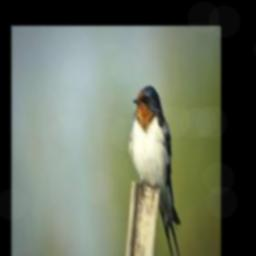Swallow: (128, 86, 182, 256)
